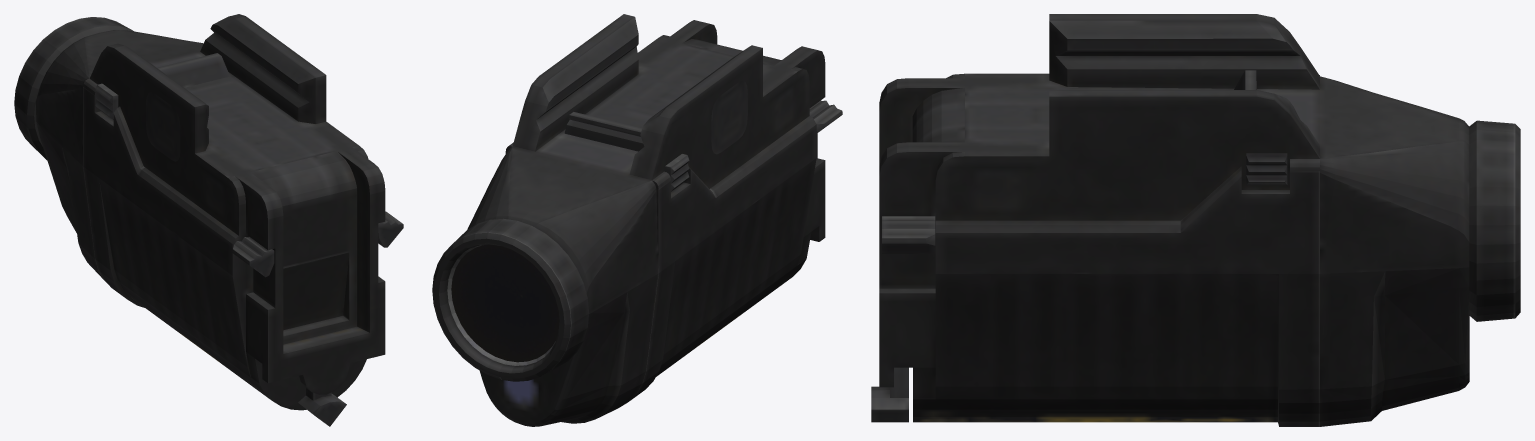
3 views of the same model, side by side, from view 1: azimuth 30°, elevation 25°; view 2: azimuth 150°, elevation 25°; view 3: azimuth 270°, elevation 25° (orthographic). The views are drawn at different scales.
Visible parts, largest first — view 1: TW_5a800961159bd4315e3a1657_PZ_Import; view 2: TW_5a800961159bd4315e3a1657_PZ_Import; view 3: TW_5a800961159bd4315e3a1657_PZ_Import.
Boxes of the visible parts, left/top/right/bottom form: TW_5a800961159bd4315e3a1657_PZ_Import: left=14, top=14, right=403, bottom=426; TW_5a800961159bd4315e3a1657_PZ_Import: left=432, top=14, right=842, bottom=426; TW_5a800961159bd4315e3a1657_PZ_Import: left=871, top=14, right=1520, bottom=426.
Size of the model in its own units: 0.0183 by 0.0519 by 0.0324.
1 material, 1 textured.
